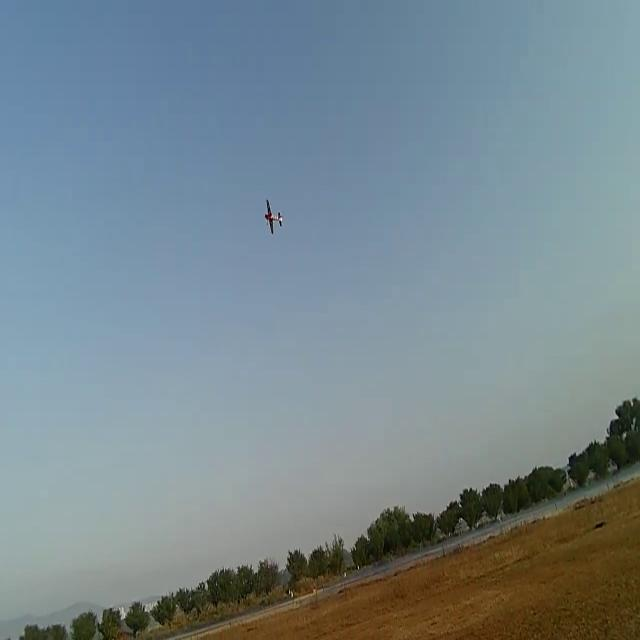iha: (260, 196, 284, 233)
